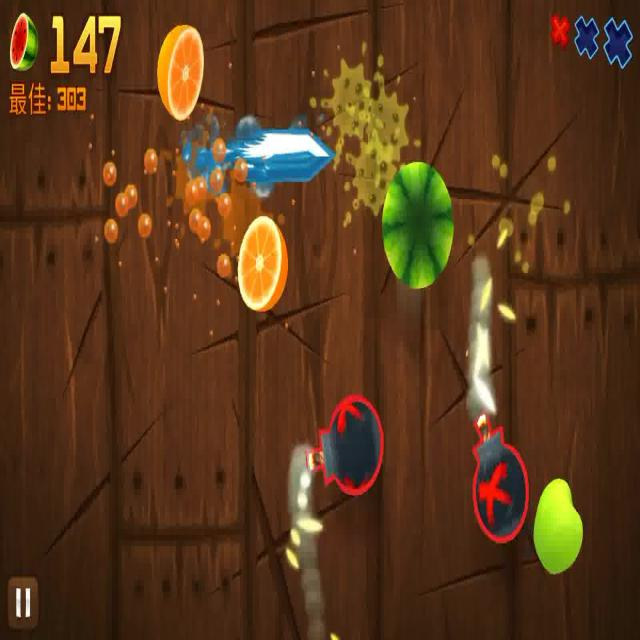bomb: (468, 409, 528, 545), (307, 396, 382, 496)
fruit: (382, 160, 453, 289), (533, 480, 583, 575), (240, 212, 288, 310), (156, 22, 202, 120)
